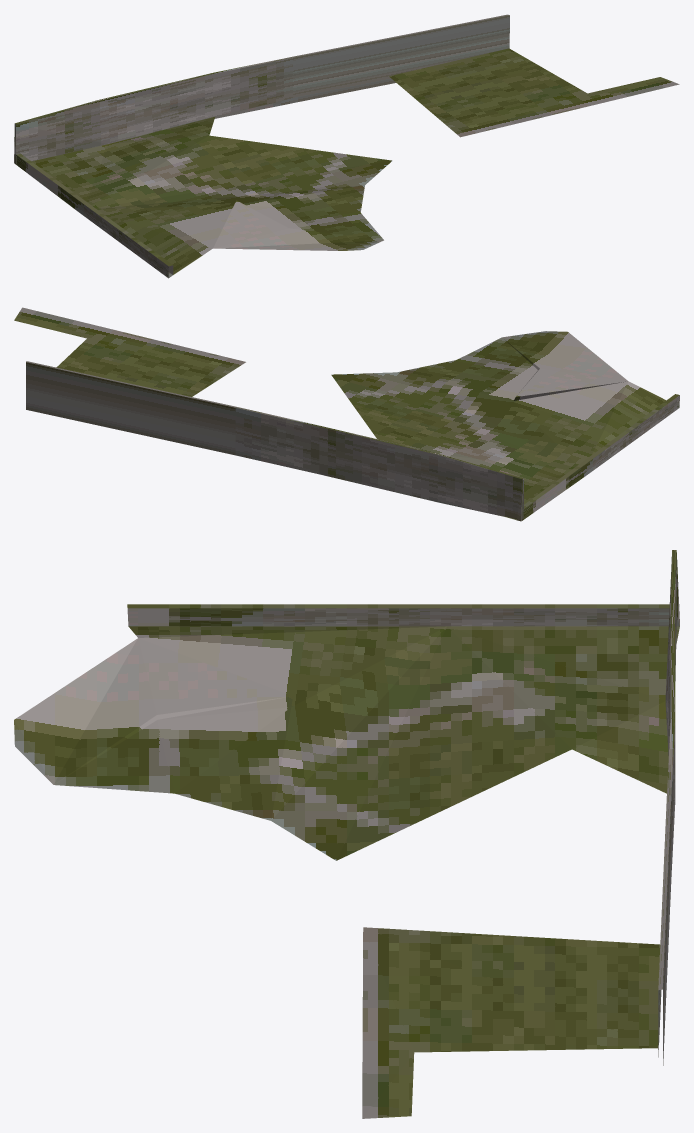
Rendered from lodlae2_lndhub05.obj.
3 views of the same model, one above another, from view 1: azimuth 30°, elevation 25°; view 2: azimuth 150°, elevation 25°; view 3: azimuth 270°, elevation 25° (orthographic). The views are drawn at different scales.
Visible parts, largest first — view 1: LODLae2_lndHUB05; view 2: LODLae2_lndHUB05; view 3: LODLae2_lndHUB05.
Boxes of the visible parts, x1=… form: LODLae2_lndHUB05: x1=14, y1=14, x2=679, y2=278; LODLae2_lndHUB05: x1=14, y1=307, x2=679, y2=521; LODLae2_lndHUB05: x1=14, y1=550, x2=679, y2=1118.
Bounding box in the file's own units: 77.41 × 7.39 × 43.37.
1 material, 1 textured.
